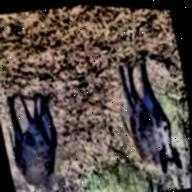boar: (103, 42, 186, 180), (0, 82, 76, 192)
